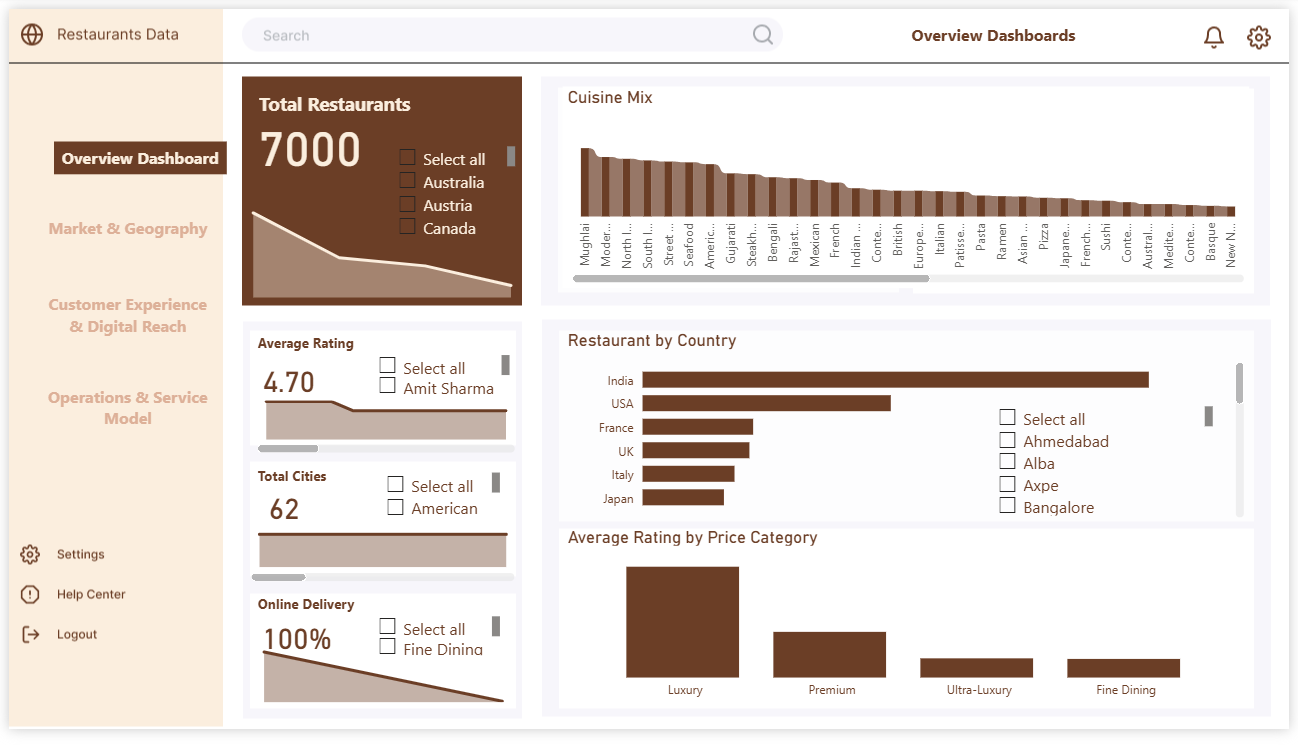

What the dashboard file says about the page in this screenshot:
{"tool":"powerbi","page":{"name":"Overview Dashboards ","canvas":[1280,720],"ordinal":0},"visuals":[{"type":"card","title":"Total Restaurants","fields":{"Values":["Restaurants.Total Restaurants"]},"box":[238.3,105,125,60],"z":0},{"type":"card","fields":{"Values":["Restaurants.Avg Rating"]},"box":[244.3,350,72.9,42.9],"z":1000},{"type":"card","fields":{"Values":["Restaurants.Total Cities"]},"box":[249.3,478.4,53,38.8],"z":2000},{"type":"card","fields":{"Values":["Restaurants.Online Delivery %"]},"box":[244.8,610.4,85.8,35.8],"z":3000},{"type":"areaChart","fields":{"Category":["Restaurants.Continent"],"Y":["Restaurants.Total Restaurants"]},"box":[205,179.2,336.7,115.8],"z":4000},{"type":"textbox","box":[244.9,78,175.4,38.1],"z":5000},{"type":"textbox","box":[244.3,320,158.6,40],"z":6000},{"type":"textbox","box":[244,453,104.5,31.3],"z":7000},{"type":"textbox","box":[244,581.3,114.2,29.1],"z":8000},{"type":"stackedAreaChart","fields":{"Y":["Restaurants.Avg Rating"],"Category":["Restaurants.Restaurant_Name"]},"box":[244.3,378.6,267.1,70],"z":9000},{"type":"stackedAreaChart","fields":{"Y":["Restaurants.Total Cities"],"Category":["Restaurants.City"]},"box":[238.1,478.4,273.1,98.5],"z":10000},{"type":"stackedAreaChart","fields":{"Y":["Restaurants.Online Delivery %"],"Category":["Restaurants.Has Online Delivery"]},"box":[154.5,620.1,438.8,78.4],"z":11000},{"type":"listSlicer","fields":{"Values":["Restaurants.Country"]},"box":[384.3,132.9,127.1,104.3],"z":12000},{"type":"listSlicer","fields":{"Values":["Restaurants.City"]},"box":[983.8,392.5,225,121.2],"z":13000},{"type":"listSlicer","fields":{"Values":["Restaurants.Cuisine_Type"]},"box":[372.5,458.8,123.8,55],"z":14000},{"type":"listSlicer","fields":{"Values":["Restaurants.Price_Category"]},"box":[363.4,602.2,132.8,51.5],"z":15000},{"type":"clusteredBarChart","title":"Restaurant by Country","fields":{"Y":["Restaurants.Restaurant_Name"],"Category":["Restaurants.Country"]},"box":[553.8,321.2,686.2,192.5],"z":16000},{"type":"clusteredColumnChart","title":"Average Rating by Price Category","fields":{"Category":["Restaurants.Price_Category"],"Y":["Restaurants.Rating"]},"box":[553.8,517.5,686.2,181.2],"z":17000},{"type":"ribbonChart","title":"Cuisine Mix","fields":{"Category":["Restaurants.Cuisine_Type"],"Y":["Restaurants.Restaurant_Name"]},"box":[553.8,77.5,686.2,201.2],"z":18000},{"type":"textbox","box":[897.5,10,198.8,36.2],"z":19000},{"type":"textbox","box":[45,132.5,172.5,32.5],"z":20000},{"type":"textbox","box":[32.5,202.5,172.5,33.8],"z":21000},{"type":"textbox","box":[32.5,278.8,172.5,61.2],"z":22000},{"type":"textbox","box":[32.5,371.2,172.5,53.8],"z":23000},{"type":"listSlicer","fields":{"Values":["Restaurants.Owner_Name"]},"box":[363.8,341.2,142.5,51.2],"z":24000}]}

Visuals, with their boxes on the page's 1280x720 design canvas (x1, y1, x2, y2). These are canvas units, not pixel positions in the 1298x745 screenshot, which may show the page scaled, cropped or inside an application window:
"Total Restaurants" card: crop(238, 105, 363, 165)
card - Restaurants.Avg Rating: crop(244, 350, 317, 393)
card - Restaurants.Total Cities: crop(249, 478, 302, 517)
card - Restaurants.Online Delivery %: crop(245, 610, 331, 646)
areaChart - Restaurants.Continent x Restaurants.Total Restaurants: crop(205, 179, 542, 295)
textbox: crop(245, 78, 420, 116)
textbox: crop(244, 320, 403, 360)
textbox: crop(244, 453, 348, 484)
textbox: crop(244, 581, 358, 610)
stackedAreaChart - Restaurants.Avg Rating x Restaurants.Restaurant_Name: crop(244, 379, 511, 449)
stackedAreaChart - Restaurants.Total Cities x Restaurants.City: crop(238, 478, 511, 577)
stackedAreaChart - Restaurants.Online Delivery % x Restaurants.Has Online Delivery: crop(154, 620, 593, 698)
listSlicer - Restaurants.Country: crop(384, 133, 511, 237)
listSlicer - Restaurants.City: crop(984, 392, 1209, 514)
listSlicer - Restaurants.Cuisine_Type: crop(372, 459, 496, 514)
listSlicer - Restaurants.Price_Category: crop(363, 602, 496, 654)
"Restaurant by Country" clusteredBarChart: crop(554, 321, 1240, 514)
"Average Rating by Price Category" clusteredColumnChart: crop(554, 518, 1240, 699)
"Cuisine Mix" ribbonChart: crop(554, 78, 1240, 279)
textbox: crop(898, 10, 1096, 46)
textbox: crop(45, 132, 218, 165)
textbox: crop(32, 202, 205, 236)
textbox: crop(32, 279, 205, 340)
textbox: crop(32, 371, 205, 425)
listSlicer - Restaurants.Owner_Name: crop(364, 341, 506, 392)
